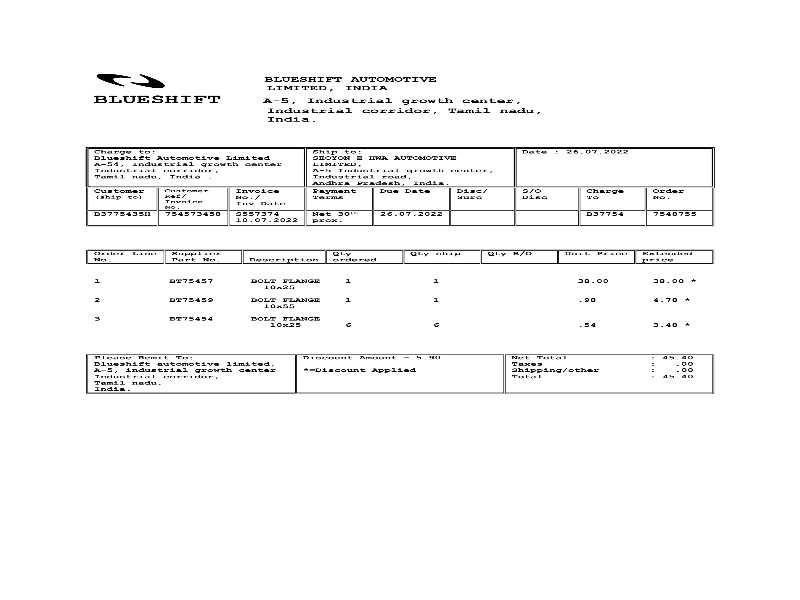Borderless: (86, 250, 713, 336)
